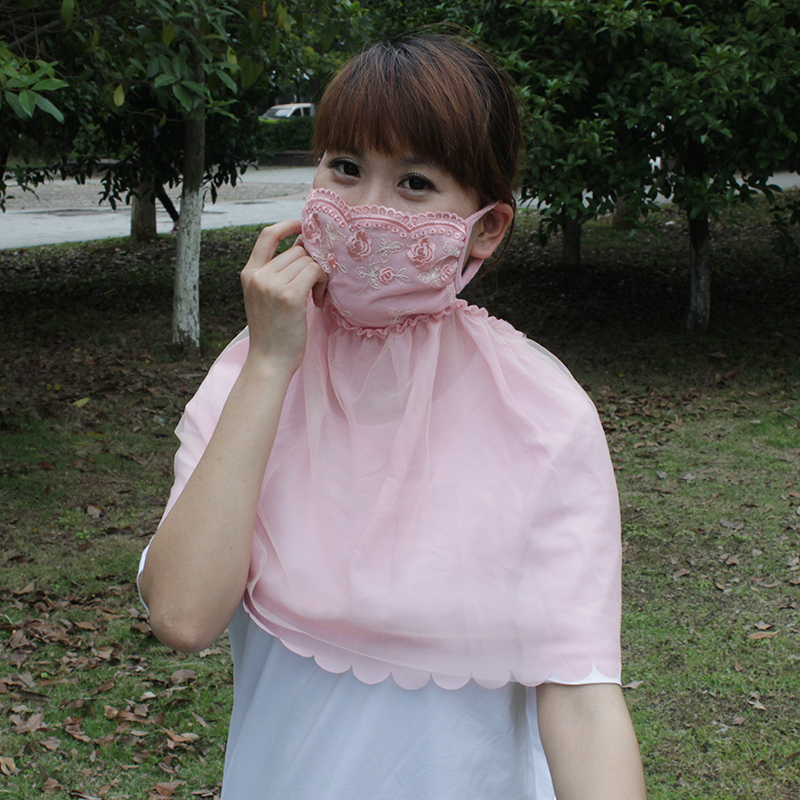face_mask: (303, 94, 476, 313)
